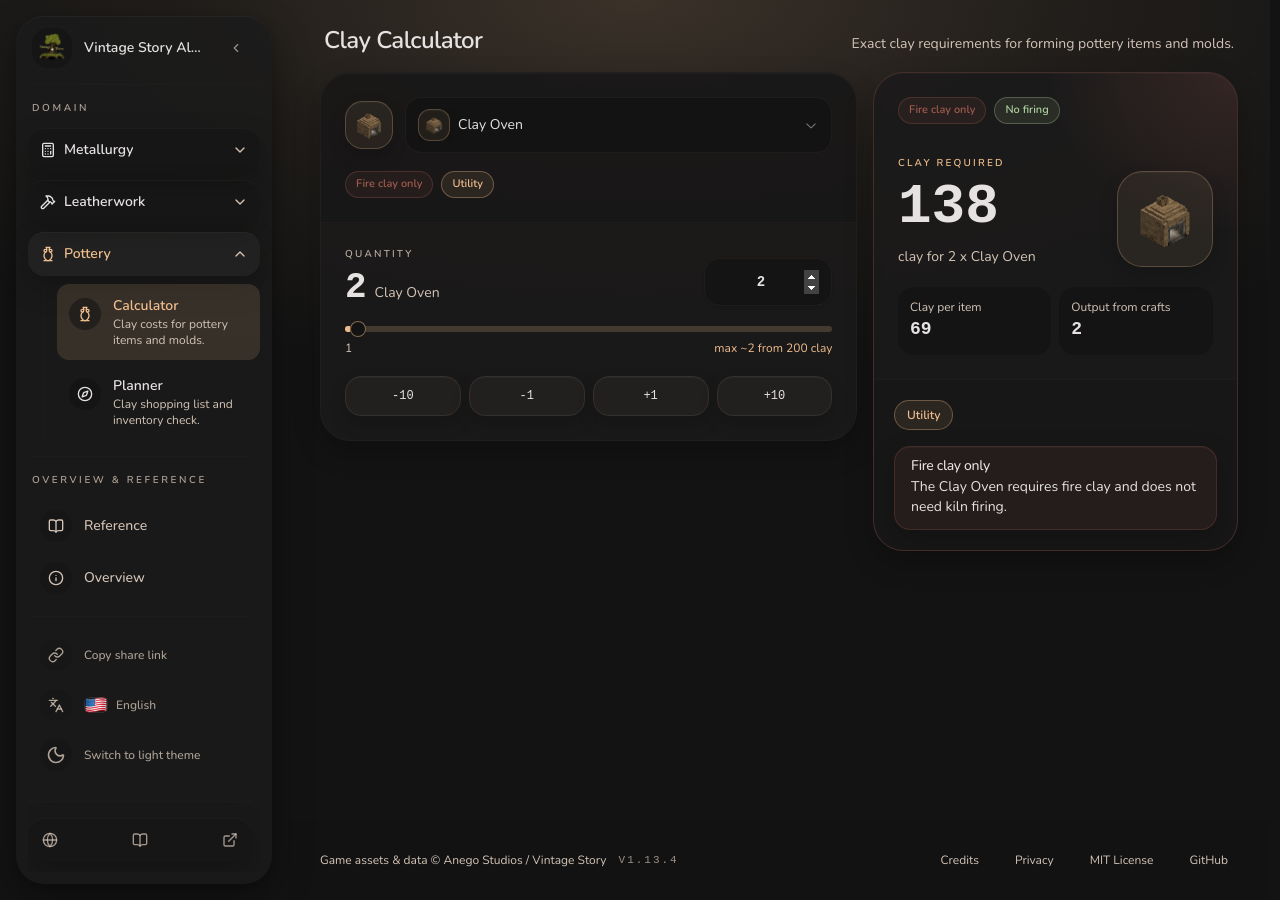
Test: App integration › loads pottery deep links and opens the pottery reference tab
Expected: the heading "Clay Calculator" is shown, [324, 24, 482, 56]
Expected: the text "clay for 2 x Clay Oven" is shown, [898, 246, 1036, 266]
Click the button "Reference": (140, 526) [28, 504, 252, 548]
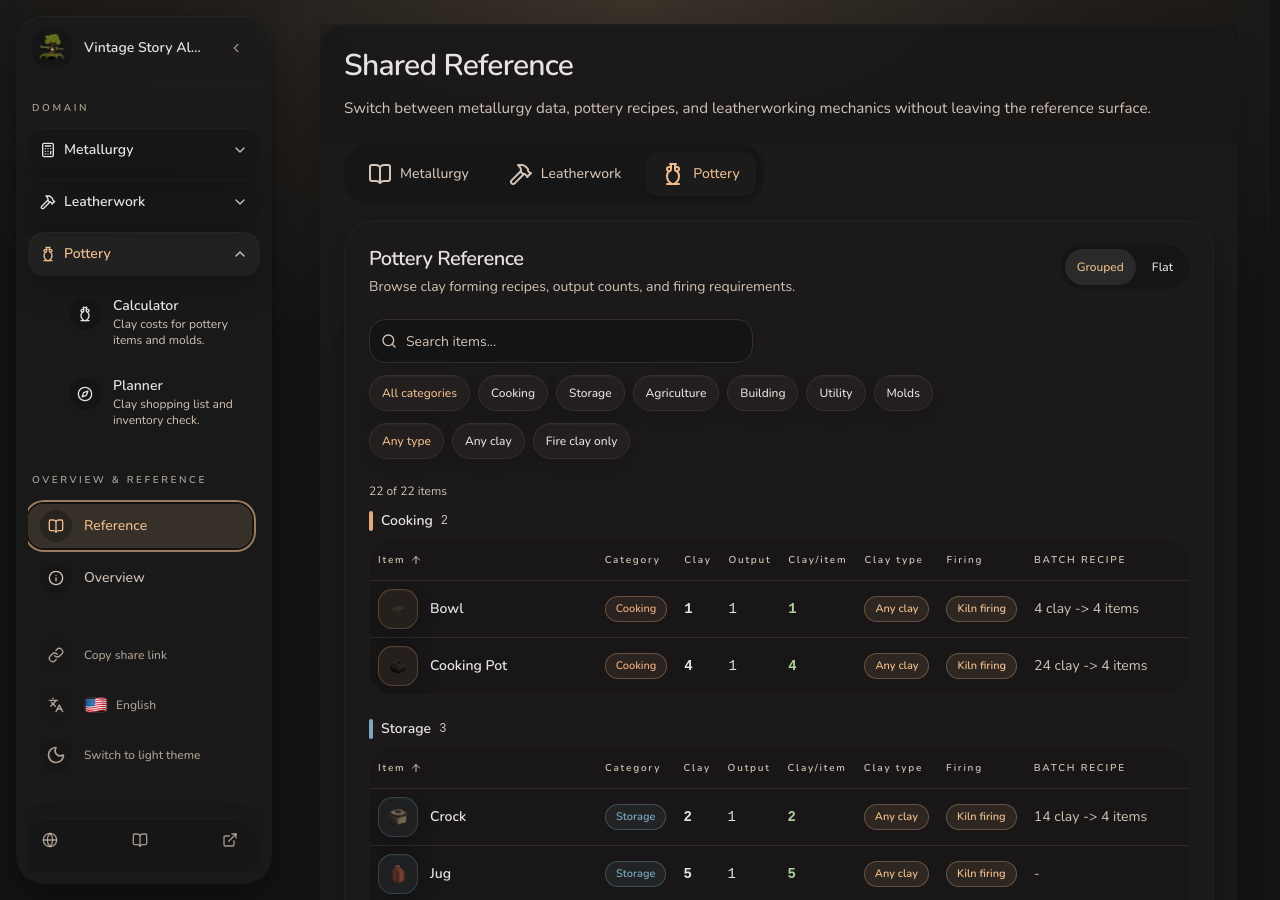
Expected: the heading "Pottery Reference" is shown, [369, 245, 524, 272]
